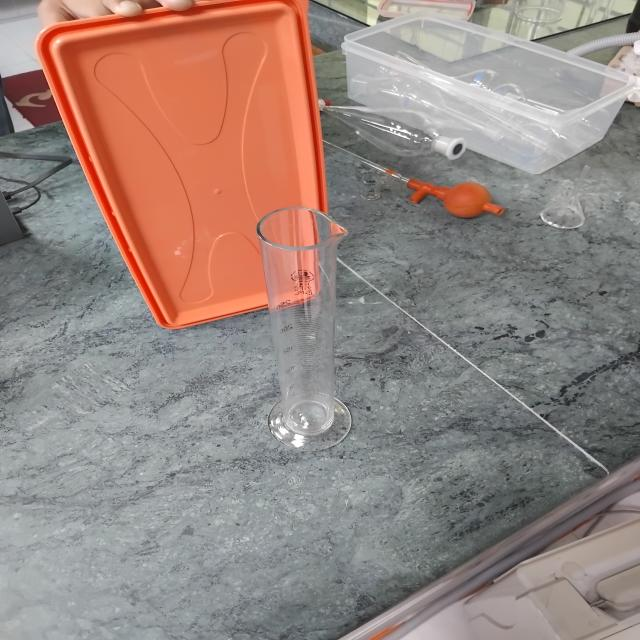Measuring_Cylinder: (221, 163, 399, 471)
